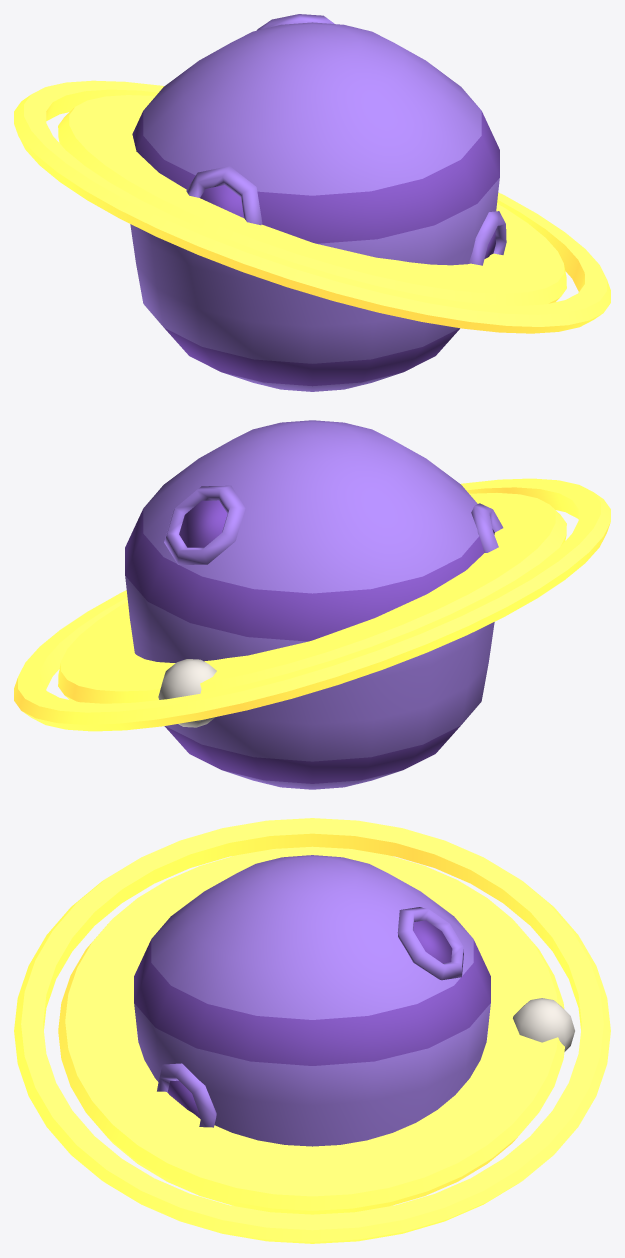
File: planete.fbx
3 views of the same model, one above another, from view 1: azimuth 30°, elevation 25°; view 2: azimuth 150°, elevation 25°; view 3: azimuth 270°, elevation 25° (orthographic). The views are drawn at different scales.
Visible parts, largest first — view 1: Planete, AnneauExterieur, AnneauPrincipal; view 2: Planete, AnneauExterieur, AnneauPrincipal, Lune; view 3: Planete, AnneauPrincipal, AnneauExterieur, Lune.
Boxes of the visible parts, x1,y1,x2,y2 form: Planete: (130,14,506,391); AnneauExterieur: (14,80,610,333); AnneauPrincipal: (58,95,566,305); Planete: (125,420,503,789); AnneauExterieur: (14,478,610,731); AnneauPrincipal: (58,493,566,703); Lune: (158,659,216,727); Planete: (134,855,490,1146); AnneauPrincipal: (58,846,564,1214); AnneauExterieur: (14,818,610,1243); Lune: (513,998,574,1051).
Bounding box in the file's own units: 0.6352 × 0.4 × 0.676.
